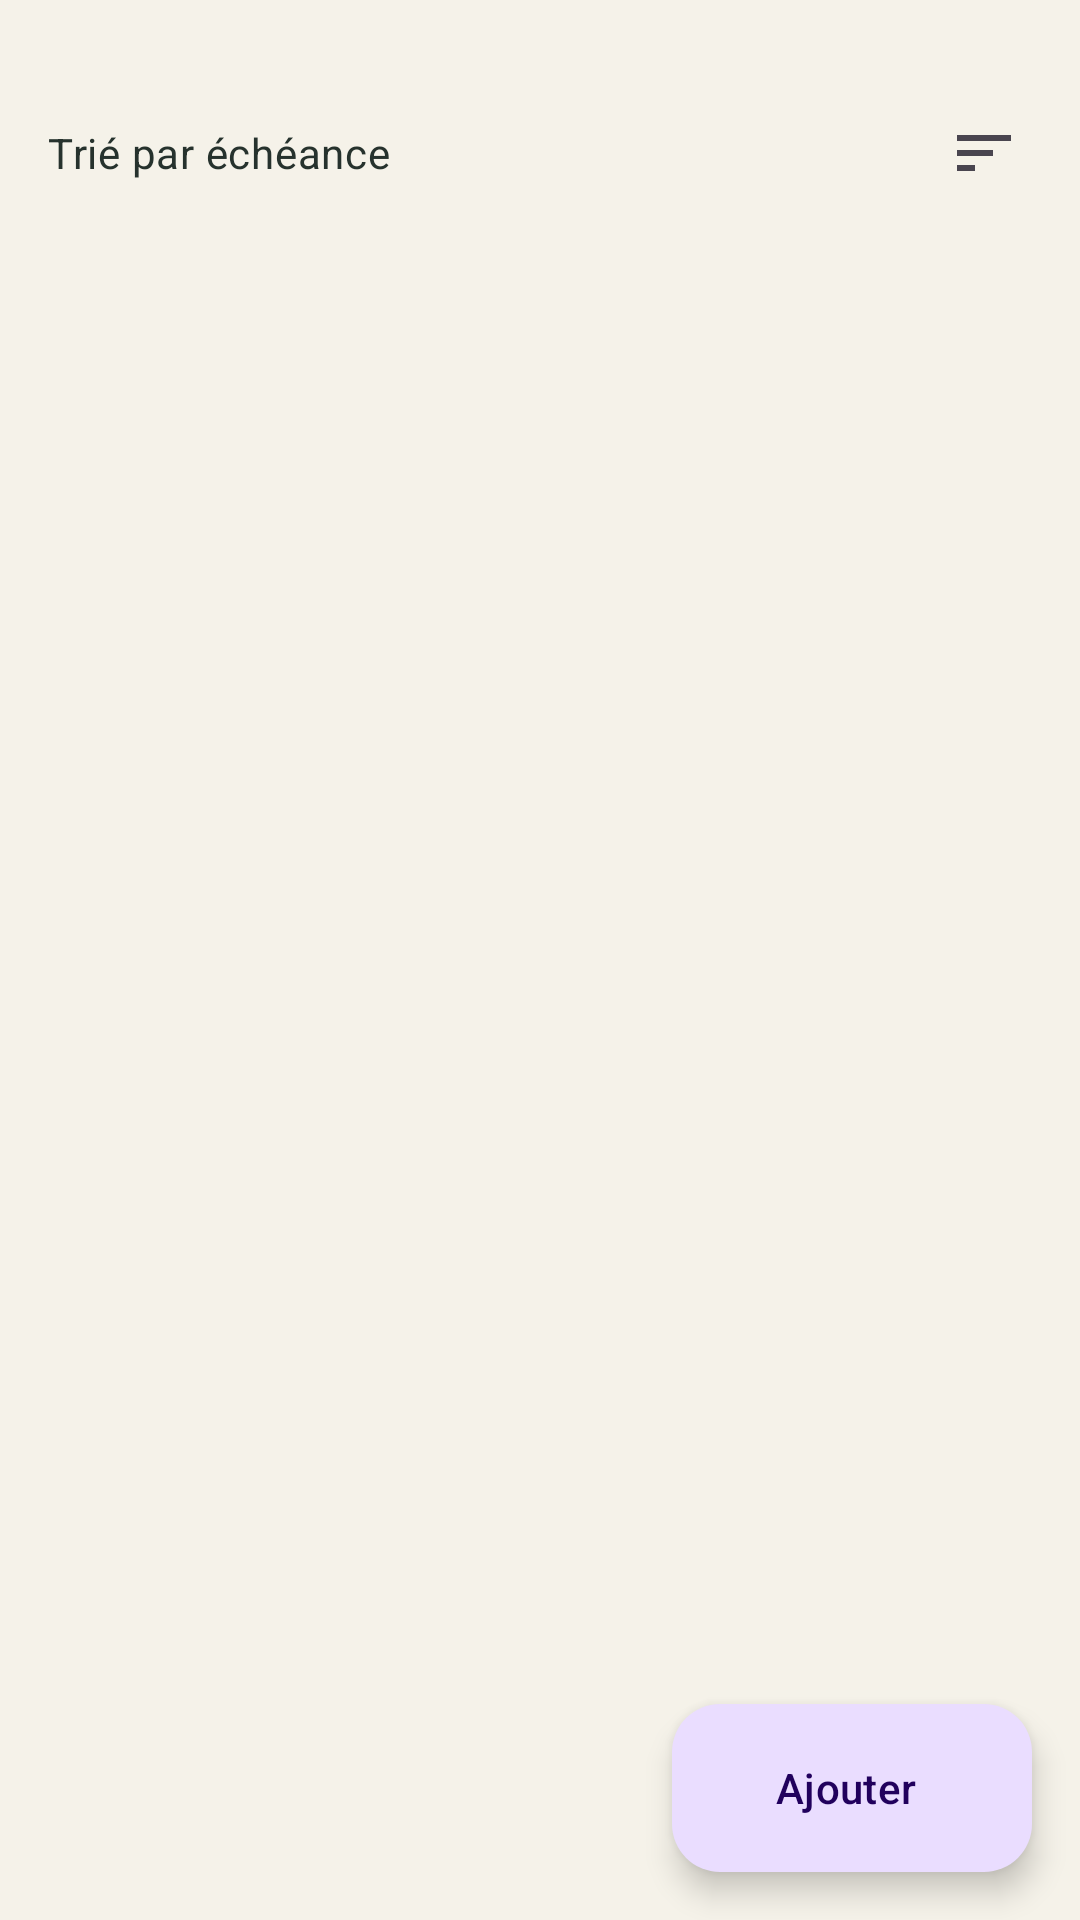

Point at icon controls on the screen. Image size 1080*1920, points as (x,y).
Trier la liste: (984,153)
